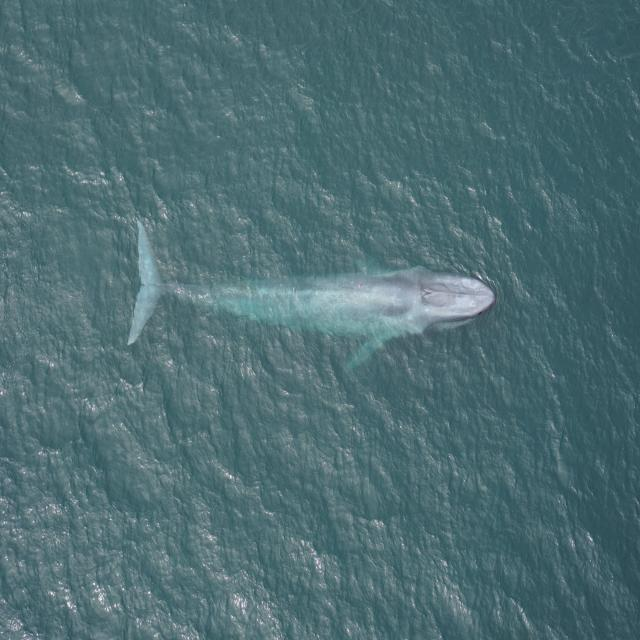blue_whale: (114, 207, 506, 434)
